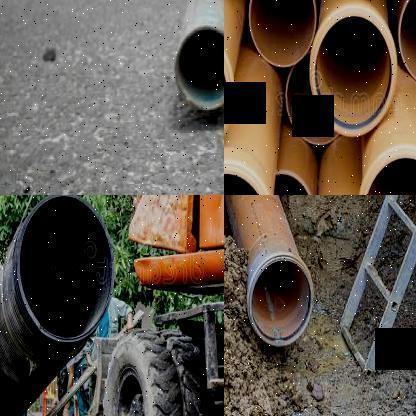pipe: (16, 195, 115, 343), (312, 13, 394, 136), (248, 257, 314, 346), (286, 50, 342, 146), (248, 0, 316, 67), (175, 23, 224, 111), (359, 154, 416, 195), (398, 0, 416, 86), (269, 172, 315, 195)
